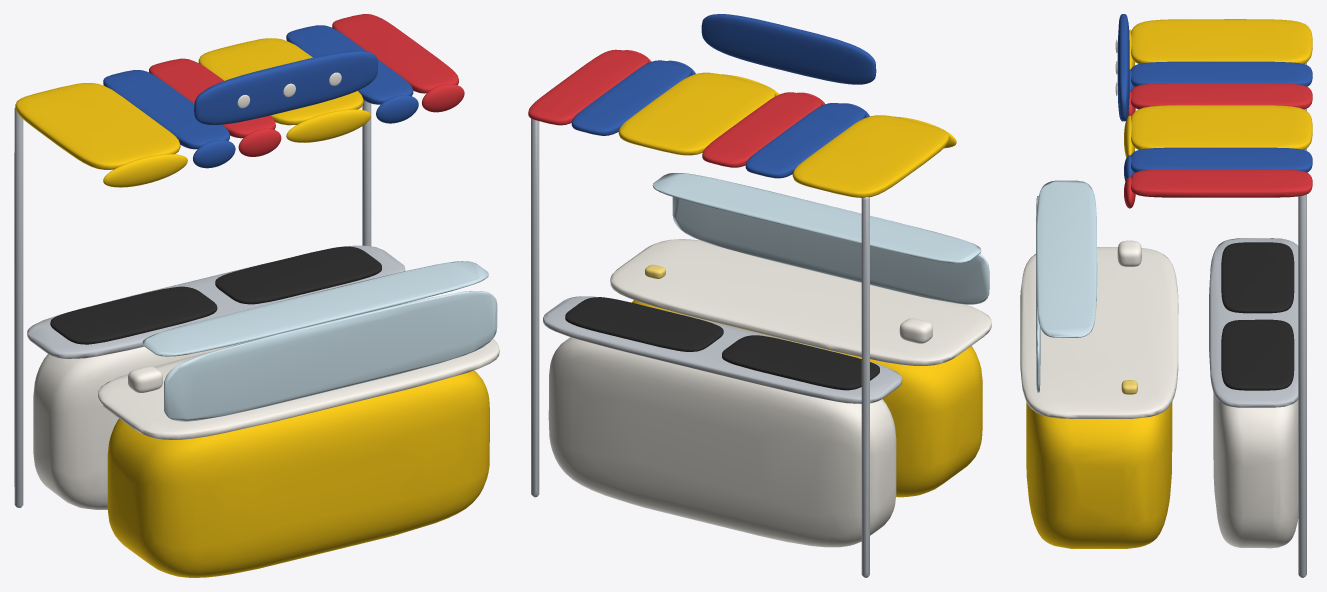
File: vitrina_arepas_3.glb
The picture shows the model from 3 angles, left to right: view 1: azimuth 30°, elevation 25°; view 2: azimuth 150°, elevation 25°; view 3: azimuth 270°, elevation 25°; orthographic projection. The views are drawn at different scales.
Parts seen in each view (by area): view 1: mostrador.004, vidrio frente.003, meson.001, vidrio techo.002, tapa.011, franja toldo.016, letrero.015, plancha.001, plancha.002, tapa meson.001, franja toldo.021, franja toldo.017 (+12 smaller); view 2: meson.001, tapa.011, vidrio frente.003, mostrador.004, vidrio techo.002, franja toldo.016, franja toldo.019, letrero.015, tapa meson.001, plancha.002, plancha.001, franja toldo.017 (+6 smaller); view 3: tapa.011, mostrador.004, meson.001, vidrio techo.002, franja toldo.016, franja toldo.019, tapa meson.001, franja toldo.021, plancha.001, plancha.002, franja toldo.018, franja toldo.017 (+5 smaller).
Boxes of the visible parts, x1,y1,x2,y2 form: mostrador.004: [107, 370, 489, 577]; vidrio frente.003: [164, 291, 497, 421]; meson.001: [33, 337, 265, 509]; vidrio techo.002: [142, 261, 488, 356]; tapa.011: [98, 339, 499, 439]; franja toldo.016: [15, 83, 180, 169]; letrero.015: [194, 50, 377, 125]; plancha.001: [50, 286, 217, 344]; plancha.002: [215, 246, 381, 304]; tapa meson.001: [27, 245, 405, 358]; franja toldo.021: [332, 14, 458, 93]; franja toldo.017: [103, 70, 229, 149]; meson.001: [548, 337, 896, 547]; tapa.011: [610, 239, 991, 365]; vidrio frente.003: [672, 197, 989, 304]; mostrador.004: [632, 300, 982, 497]; vidrio techo.002: [652, 173, 981, 263]; franja toldo.016: [792, 115, 949, 197]; franja toldo.019: [618, 72, 775, 155]; letrero.015: [701, 14, 876, 84]; tapa meson.001: [543, 296, 902, 403]; plancha.002: [565, 297, 723, 351]; plancha.001: [722, 335, 879, 390]; franja toldo.017: [745, 103, 866, 178]; tapa.011: [1020, 247, 1178, 418]; mostrador.004: [1026, 402, 1172, 548]; meson.001: [1213, 392, 1298, 548]; vidrio techo.002: [1036, 180, 1097, 337]; franja toldo.016: [1131, 19, 1312, 63]; franja toldo.019: [1131, 105, 1312, 149]; tapa meson.001: [1209, 238, 1298, 407]; franja toldo.021: [1131, 169, 1312, 197]; plancha.001: [1221, 242, 1294, 313]; plancha.002: [1221, 319, 1294, 390]; franja toldo.018: [1131, 83, 1312, 109]; franja toldo.017: [1131, 61, 1312, 86].
Size of the model in its own units: 2.02 by 2.44 by 1.44.
